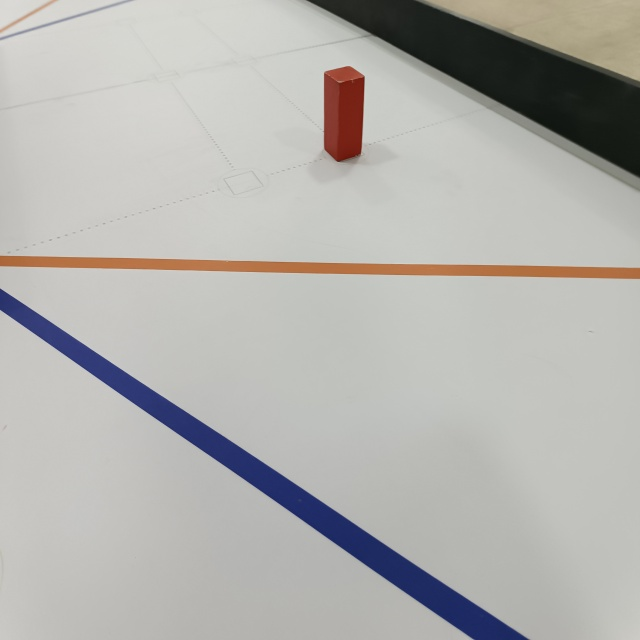blue line: (0, 287, 536, 640), (3, 0, 136, 42)
orange line: (0, 248, 640, 279), (3, 0, 56, 34)
red rectangular prism: (319, 65, 371, 167)
